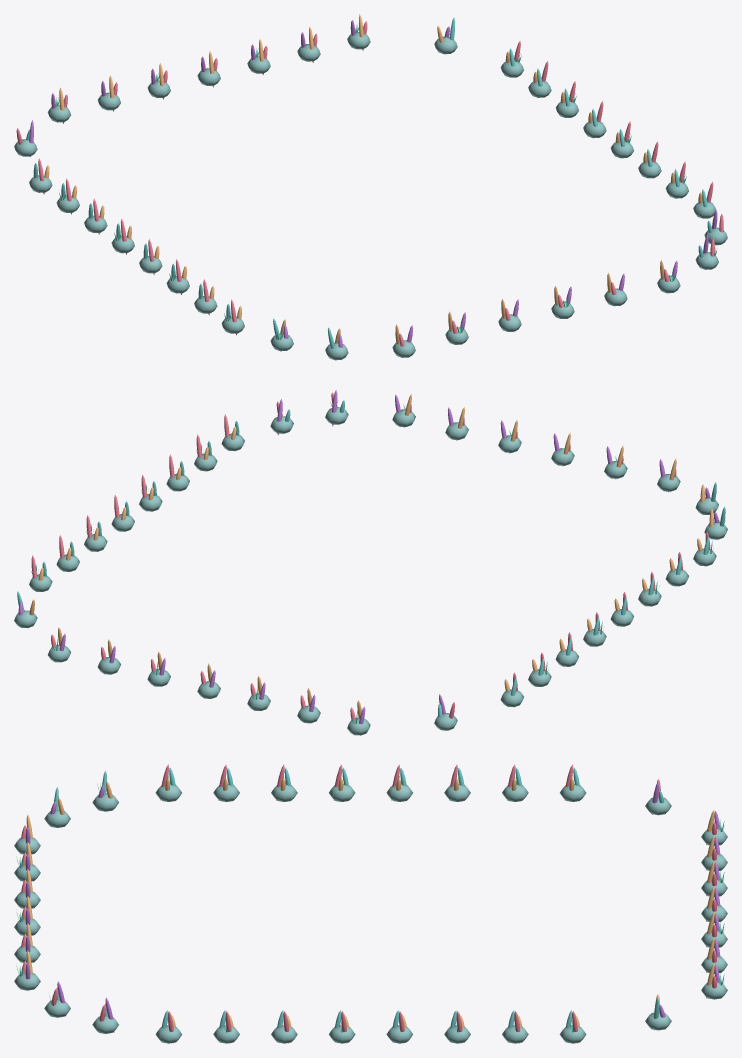
The model's file is reef-07-DH9JBcGy.glb.
3 renders of one model, top to bottom at view 1: azimuth 30°, elevation 25°; view 2: azimuth 150°, elevation 25°; view 3: azimuth 270°, elevation 25°, orthographic. The views are drawn at different scales.
Visible parts, largest first — view 1: ReefRock, Coral0, Coral2, Coral3, Coral1; view 2: ReefRock, Coral2, Coral0, Coral3, Coral1; view 3: ReefRock, Coral0, Coral2, Coral3, Coral1.
Part boxes in pixels (box(x1,y1,x2,y2)): ReefRock: box(14, 32, 727, 360); Coral0: box(16, 21, 723, 346); Coral2: box(44, 14, 702, 344); Coral3: box(26, 17, 712, 348); Coral1: box(29, 20, 717, 347); ReefRock: box(14, 407, 727, 735); Coral2: box(29, 394, 713, 718); Coral0: box(31, 392, 710, 720); Coral3: box(17, 400, 725, 717); Coral1: box(18, 390, 719, 724); ReefRock: box(14, 783, 727, 1043); Coral0: box(21, 764, 716, 1043); Coral2: box(26, 778, 714, 1027); Coral3: box(54, 767, 664, 1030); Coral1: box(25, 782, 720, 1032).
Bounding box in the file's own units: 31 × 2.06 × 37.1.
